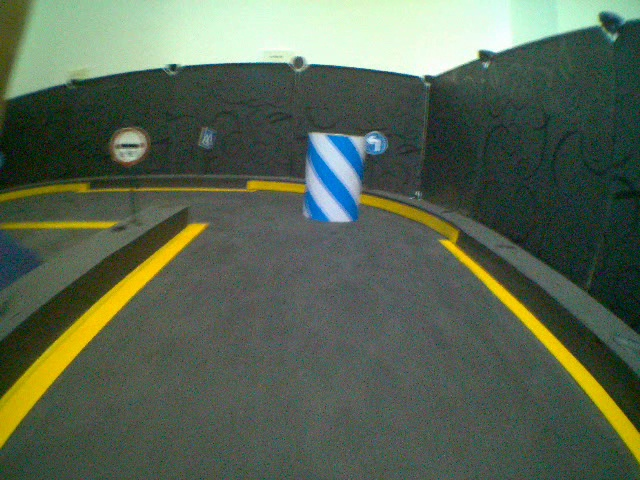bucket: (300, 131, 367, 232)
